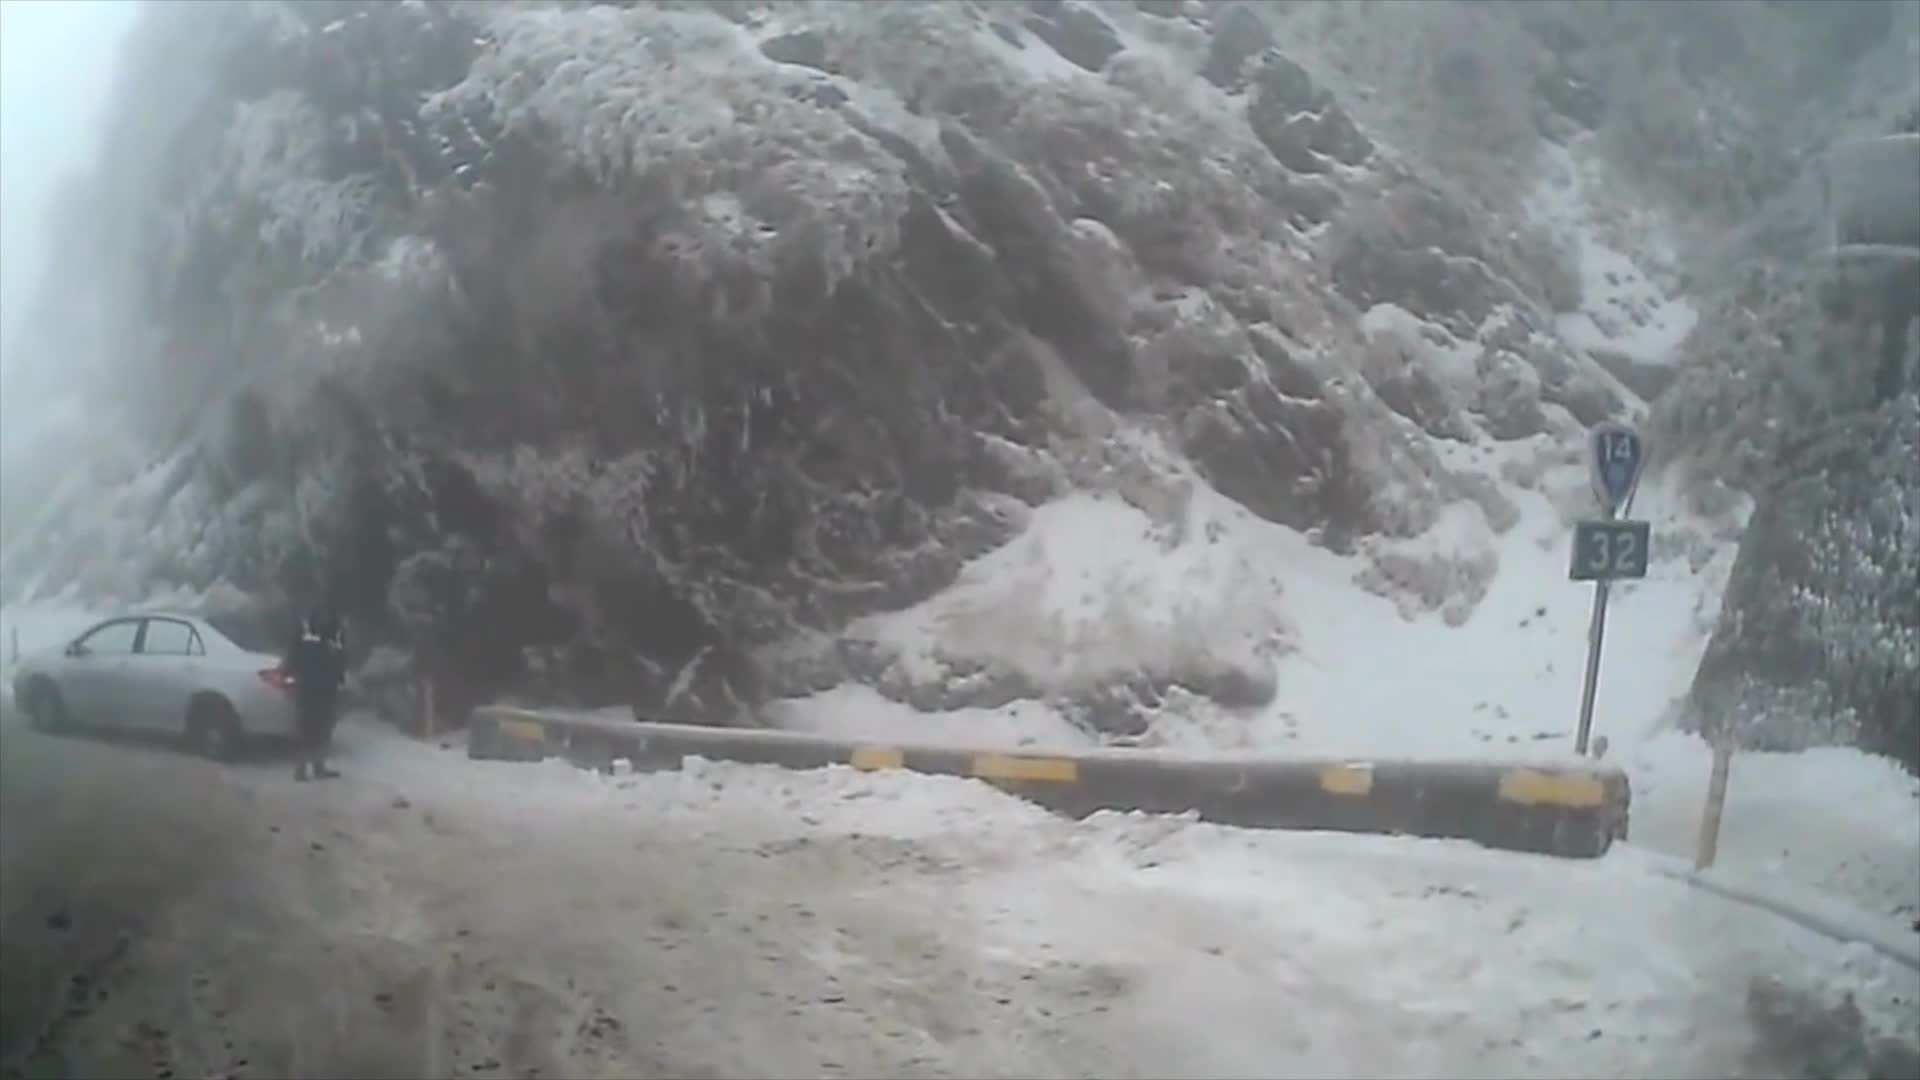pedestrian: (281, 594, 349, 782)
vehicle: (11, 598, 335, 754)
